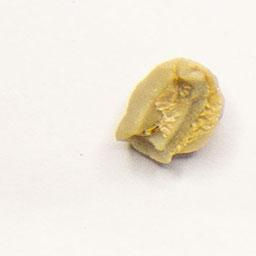defect: (111, 53, 229, 169)
